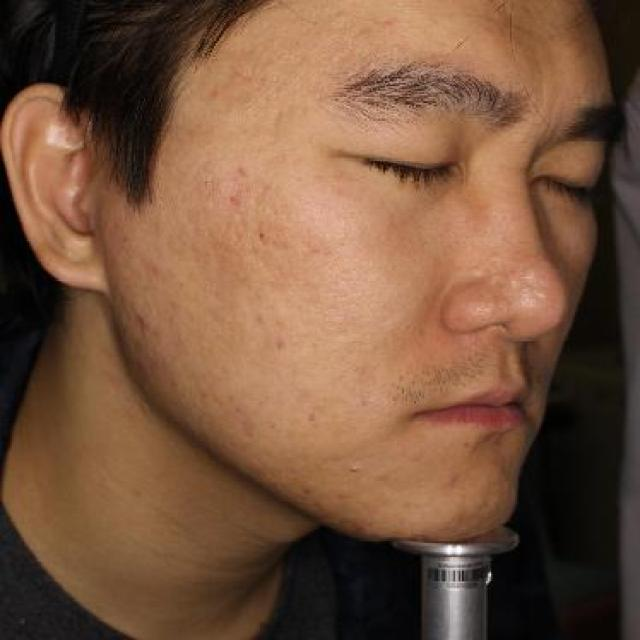acne: (300, 237, 334, 263), (266, 332, 292, 356), (350, 390, 382, 408), (440, 469, 466, 491), (342, 460, 369, 480), (224, 189, 250, 209), (228, 398, 254, 418), (228, 162, 252, 182), (376, 14, 400, 31), (300, 409, 322, 426)
